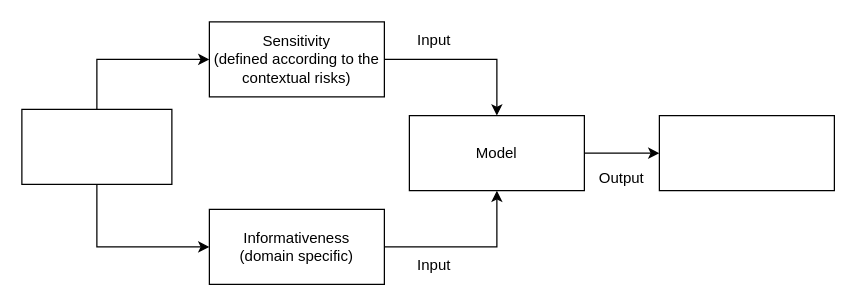
The diagram is 856 pixels wide and 306 high, and some of its shapes have lost their labels. The shapes that lost their labels are listed below. From the top down, each one's box as (x1, y1, x2, y2) in pixels, then its label:
(21, 108, 172, 184): Original text
(658, 114, 834, 191): Rephrased text Sensitivity score Informativeness score
